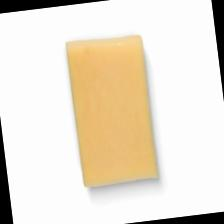cheese: (64, 32, 160, 188)
